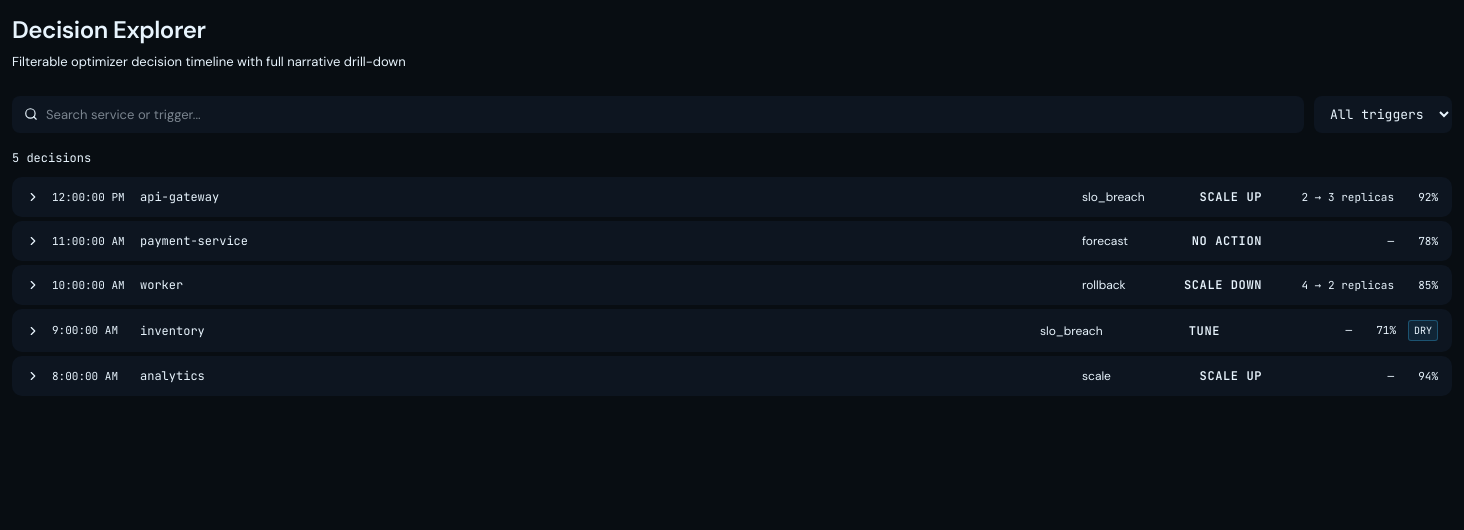
Test: DecisionExplorer › expands a decision row and shows narrative section
This screenshot has width=1464, height=530.
Click the button that starts with "12:00:00 PM" at point(88, 197), box left=26, top=189, right=1438, bottom=205
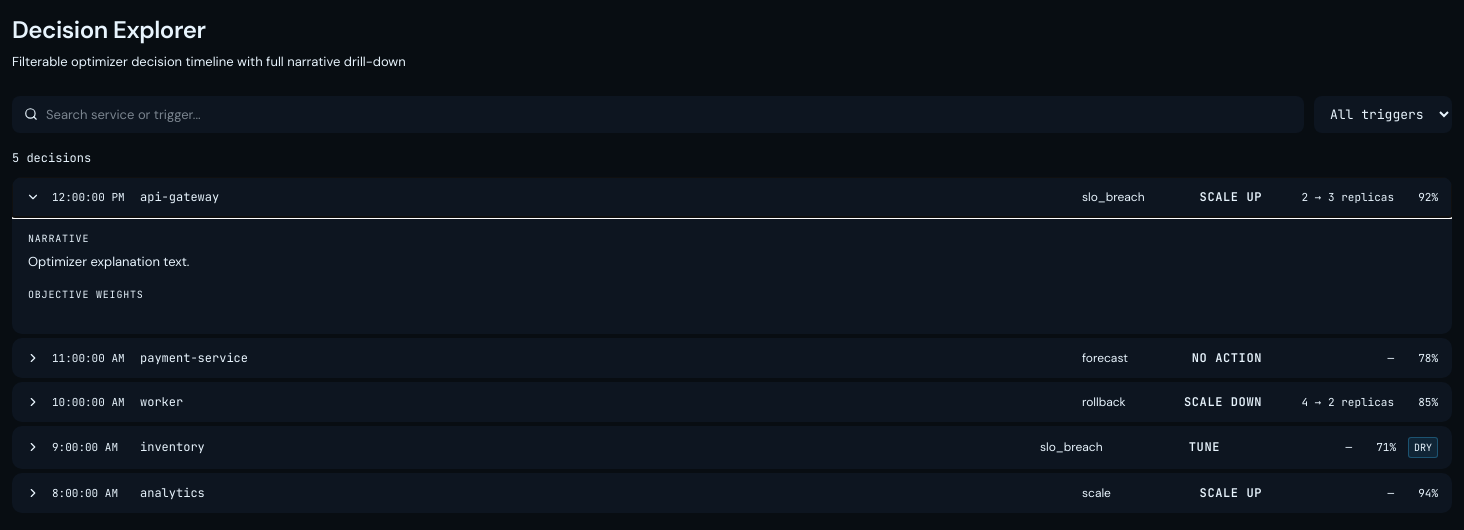
Check: the text "Narrative" is shown, box left=28, top=232, right=89, bottom=245
